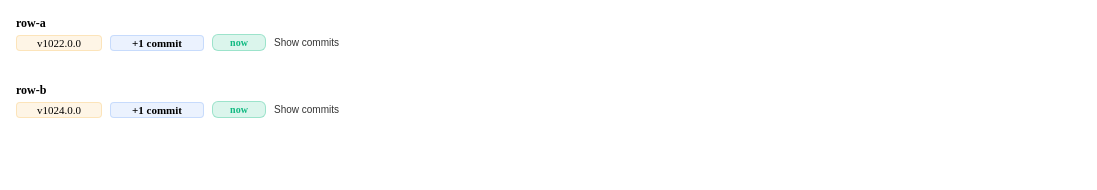
Test case: UntagTab › expands one row without affecting a sibling row
Expected: the text "row-a" is shown, top-left (16, 16), bottom-right (46, 30)
Click the button "Show commits" in the row of "v1022.0.0": [306, 42] box top-left (274, 37), bottom-right (339, 48)
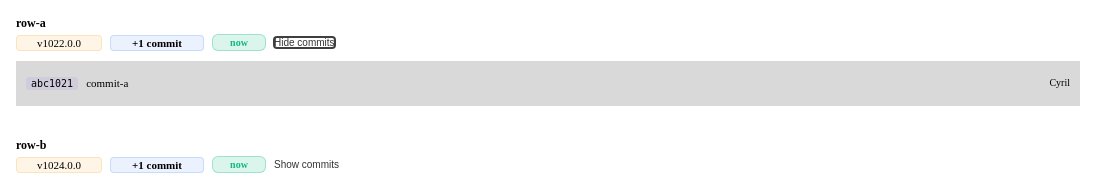
Expected: the number of buttons "Show commits" is 1, top-left (274, 159), bottom-right (339, 170)
Now the button "Hide commits" is shown, box top-left (274, 37), bottom-right (335, 48)
